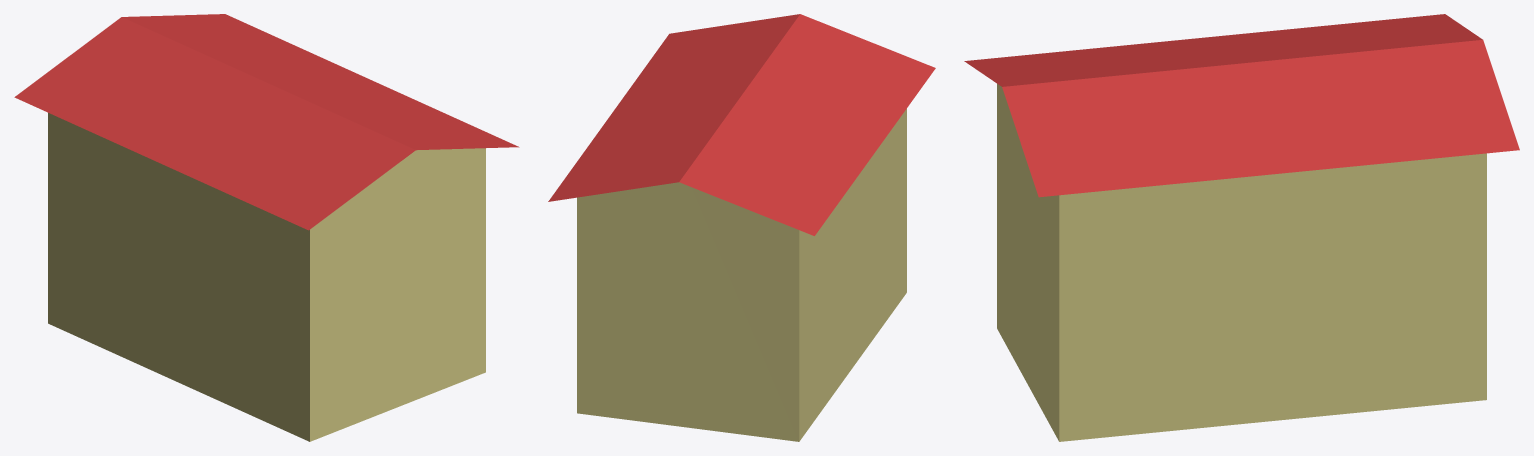
3 renders of one model, left to right at view 1: azimuth 30°, elevation 25°; view 2: azimuth 150°, elevation 25°; view 3: azimuth 270°, elevation 25°, orthographic. The views are drawn at different scales.
Bounding box in the file's own units: 7.9 × 10.12 × 6.07.
